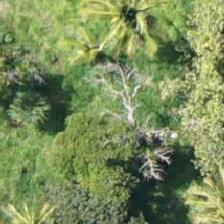coconut_tree: (85, 0, 175, 63)
